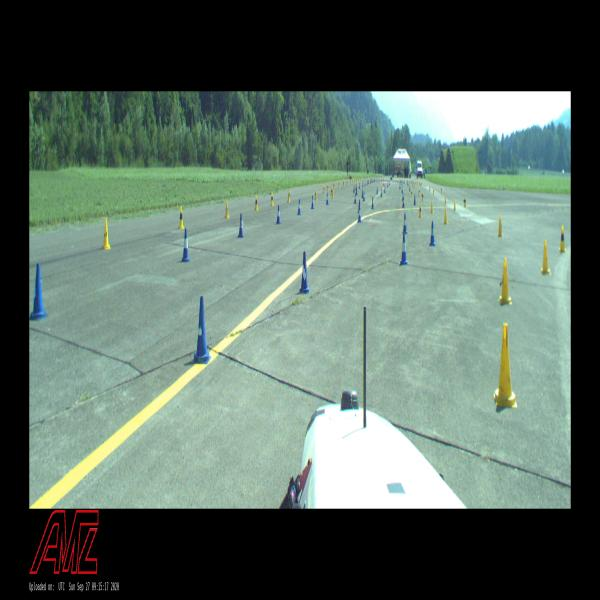blue_cone: (193, 296, 210, 363), (30, 264, 46, 318), (300, 252, 308, 296), (399, 235, 408, 264), (182, 229, 190, 261), (238, 214, 244, 237), (430, 221, 435, 245), (403, 214, 407, 233), (276, 206, 280, 223), (358, 201, 361, 222), (298, 199, 301, 214), (311, 195, 314, 209), (354, 193, 357, 204), (326, 194, 329, 204), (402, 198, 405, 208), (413, 195, 416, 205), (372, 197, 374, 209), (361, 190, 364, 198), (363, 191, 365, 201), (401, 184, 403, 192), (353, 185, 355, 193), (376, 188, 378, 195), (384, 186, 386, 193), (402, 193, 404, 200), (381, 188, 382, 197), (356, 186, 357, 194)
yellow_cone: (492, 322, 518, 407), (499, 258, 512, 304), (540, 240, 551, 275), (558, 225, 567, 252), (102, 219, 110, 249), (179, 208, 184, 228), (498, 217, 502, 236), (225, 201, 229, 218), (444, 207, 448, 224), (270, 192, 274, 206), (418, 204, 422, 217), (255, 196, 258, 210), (430, 201, 433, 213), (453, 199, 456, 211), (463, 196, 466, 207), (315, 190, 318, 200), (444, 194, 447, 204), (288, 190, 290, 202), (331, 186, 333, 197), (332, 188, 334, 199), (323, 185, 325, 193), (326, 183, 328, 191), (333, 181, 335, 189), (418, 188, 420, 195), (338, 181, 340, 187), (411, 189, 412, 197), (422, 193, 423, 200)
